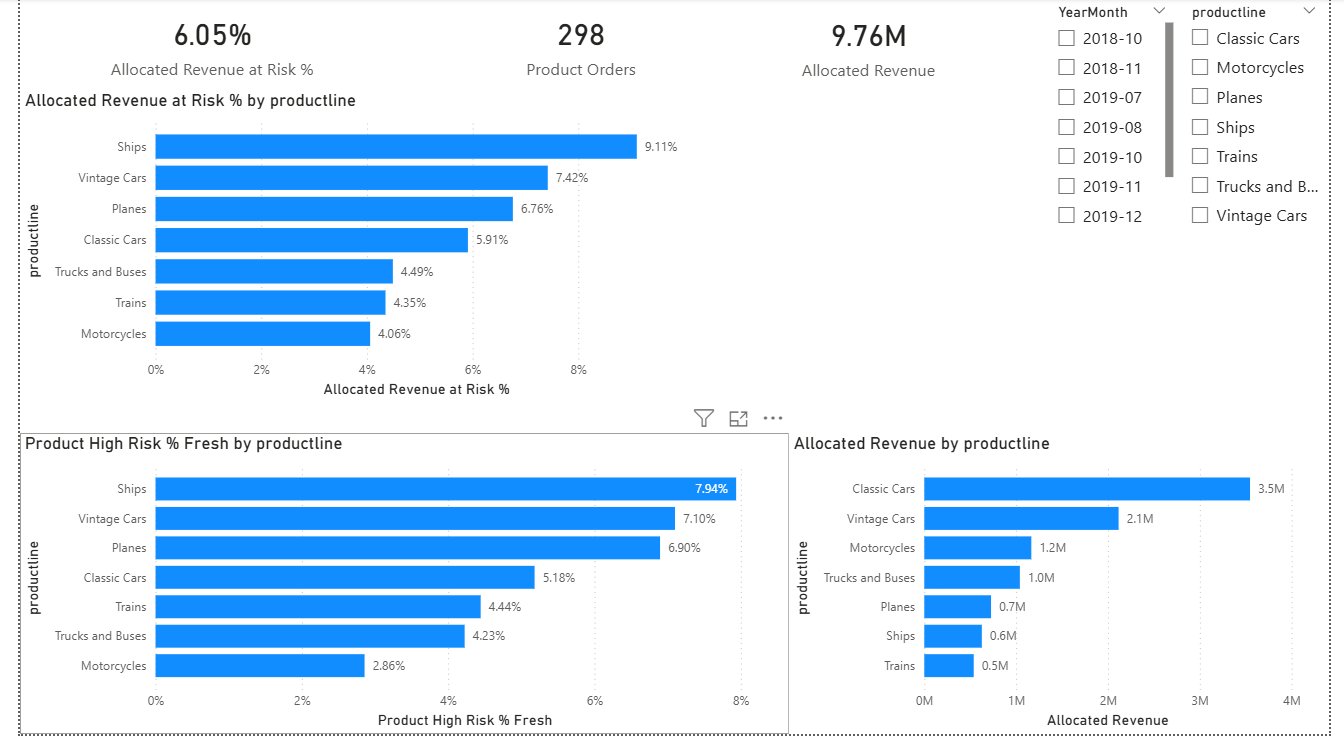

Layout of this report page (visuals, bound fields, positions):
{"tool":"powerbi","page":{"name":"Product/Revenue at Risk","canvas":[1280,720],"ordinal":3},"visuals":[{"type":"slicer","fields":{"Values":["DimDate.YearMonth"]},"box":[1002.7,0,130.8,238.5],"z":0},{"type":"slicer","fields":{"Values":["dim_productline.productline"]},"box":[1133.6,0,146.7,238.5],"z":1000},{"type":"card","fields":{"Values":["_Measures.Product Orders"]},"box":[346.1,0,406,89.3],"z":2000},{"type":"card","fields":{"Values":["_Measures.Allocated Revenue"]},"box":[657.9,1.2,344.8,89.3],"z":3000},{"type":"card","fields":{"Values":["_Measures.Allocated Revenue at Risk %"]},"box":[0,0,376.6,89.3],"z":4000},{"type":"clusteredBarChart","fields":{"Category":["dim_productline.productline"],"Y":["_Measures.Product High Risk % Fresh"]},"box":[0,425.8,752.4,293.9],"z":5000},{"type":"clusteredBarChart","fields":{"Category":["dim_productline.productline"],"Y":["_Measures.Allocated Revenue at Risk %"]},"box":[0,89.3,657.9,306.9],"z":6000},{"type":"clusteredBarChart","fields":{"Category":["dim_productline.productline"],"Y":["_Measures.Allocated Revenue"]},"box":[752.4,425.8,506.2,293.9],"z":7000}]}

Visuals, with their boxes in screenshot pixels (x1, y1, x2, y2), scaled from the page's 1280x720 canvas onto the 1344x742 screenshot:
slicer - DimDate.YearMonth: {"x1": 1053, "y1": 0, "x2": 1190, "y2": 246}
slicer - dim_productline.productline: {"x1": 1190, "y1": 0, "x2": 1343, "y2": 246}
card - _Measures.Product Orders: {"x1": 363, "y1": 0, "x2": 790, "y2": 92}
card - _Measures.Allocated Revenue: {"x1": 691, "y1": 1, "x2": 1053, "y2": 93}
card - _Measures.Allocated Revenue at Risk %: {"x1": 0, "y1": 0, "x2": 395, "y2": 92}
clusteredBarChart - dim_productline.productline x _Measures.Product High Risk % Fresh: {"x1": 0, "y1": 439, "x2": 790, "y2": 741}
clusteredBarChart - dim_productline.productline x _Measures.Allocated Revenue at Risk %: {"x1": 0, "y1": 92, "x2": 691, "y2": 408}
clusteredBarChart - dim_productline.productline x _Measures.Allocated Revenue: {"x1": 790, "y1": 439, "x2": 1322, "y2": 741}
